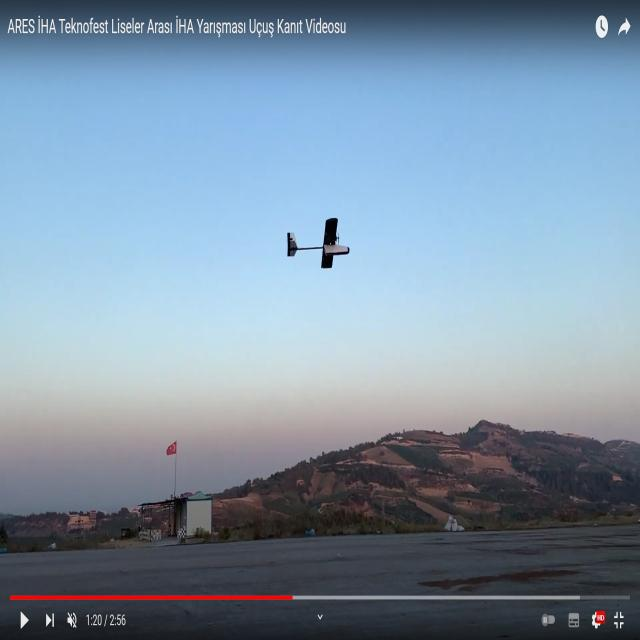iha: (314, 216, 318, 268)
